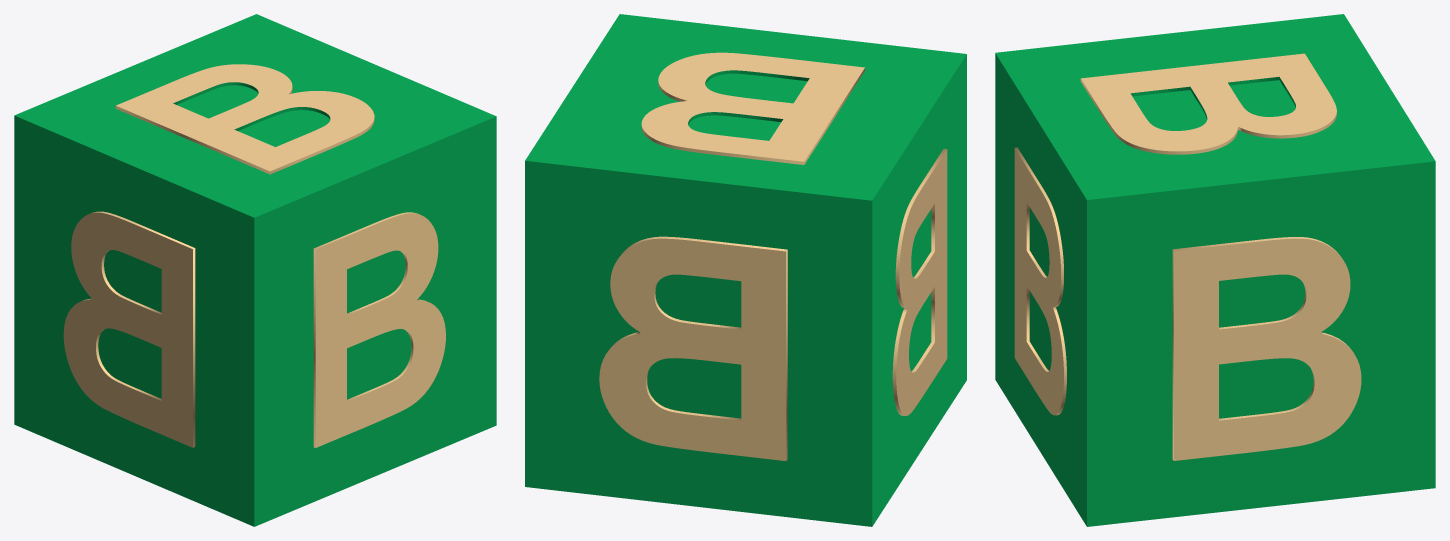
File: 9-bharfi.fbx
3 renders of one model, left to right at view 1: azimuth 30°, elevation 25°; view 2: azimuth 150°, elevation 25°; view 3: azimuth 270°, elevation 25°, orthographic. The views are drawn at different scales.
Parts seen in each view (by area): view 1: Cube.036; view 2: Cube.036; view 3: Cube.036.
Boxes of the visible parts, left/top/right/bottom form: Cube.036: left=14, top=14, right=496, bottom=526; Cube.036: left=525, top=14, right=966, bottom=526; Cube.036: left=995, top=14, right=1435, bottom=526.
Bounding box in the file's own units: 10.09 × 8.44 × 10.09.
